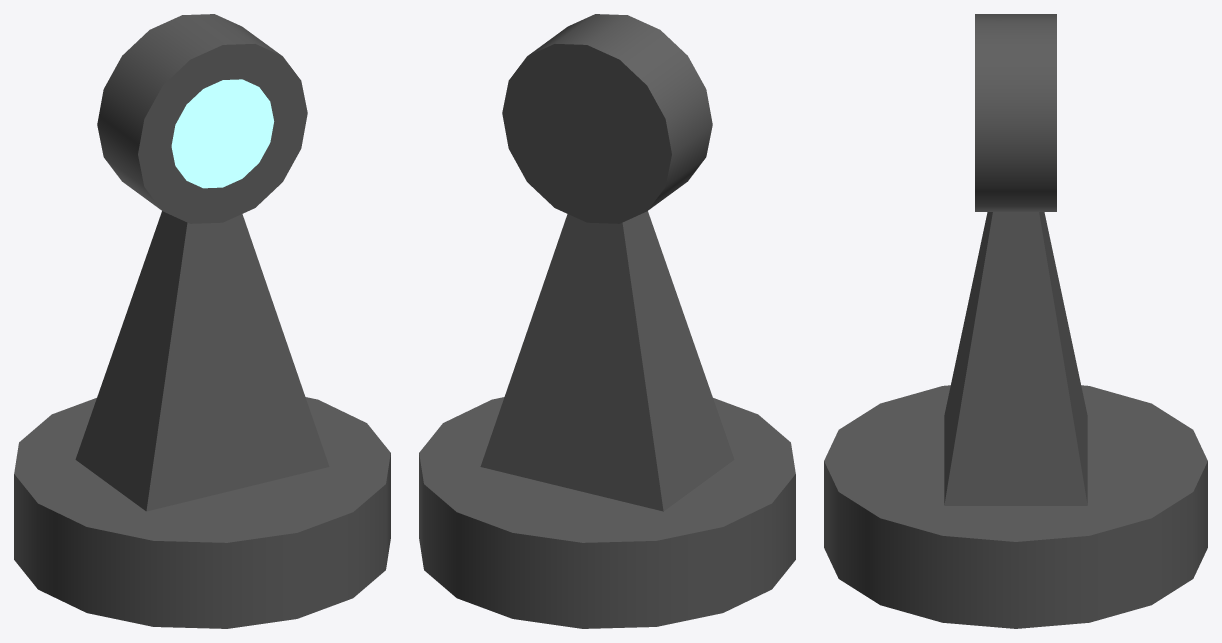
File: rayEmitter.glb
3 renders of one model, left to right at view 1: azimuth 30°, elevation 25°; view 2: azimuth 150°, elevation 25°; view 3: azimuth 270°, elevation 25°, orthographic.
Visible parts, largest first — view 1: rayEmitter; view 2: rayEmitter; view 3: rayEmitter.
Part boxes in pixels (box(x1,y1,x2,y2)): rayEmitter: box(14, 14, 390, 628); rayEmitter: box(419, 14, 795, 628); rayEmitter: box(824, 14, 1207, 628).
Size of what is drawn, in the model's own units: 1 by 1.51 by 1.
Materials: 2 (1 with a texture image).
